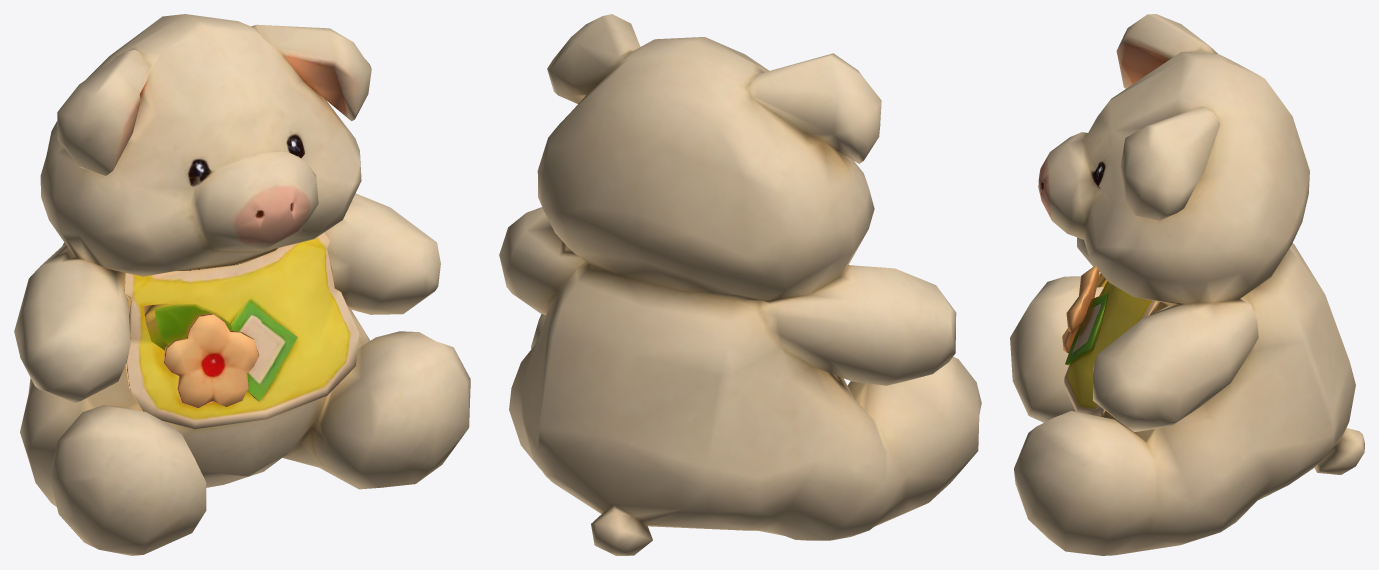
The model's file is pig_plush.glb.
3 views of the same model, side by side, from view 1: azimuth 30°, elevation 25°; view 2: azimuth 150°, elevation 25°; view 3: azimuth 270°, elevation 25° (orthographic). The views are drawn at different scales.
Parts seen in each view (by area): view 1: geometry_0; view 2: geometry_0; view 3: geometry_0.
Boxes of the visible parts, left/top/right/bottom form: geometry_0: left=14, top=14, right=470, bottom=555; geometry_0: left=499, top=14, right=981, bottom=555; geometry_0: left=1010, top=14, right=1364, bottom=555.
Size of the model in its own units: 91.51 by 95.36 by 70.95.
Materials: 1 (1 with a texture image).
